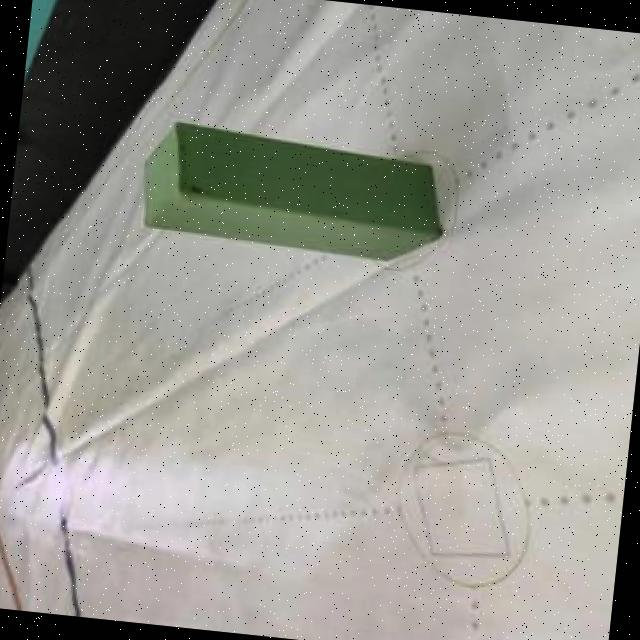greenbox: (136, 114, 450, 265)
